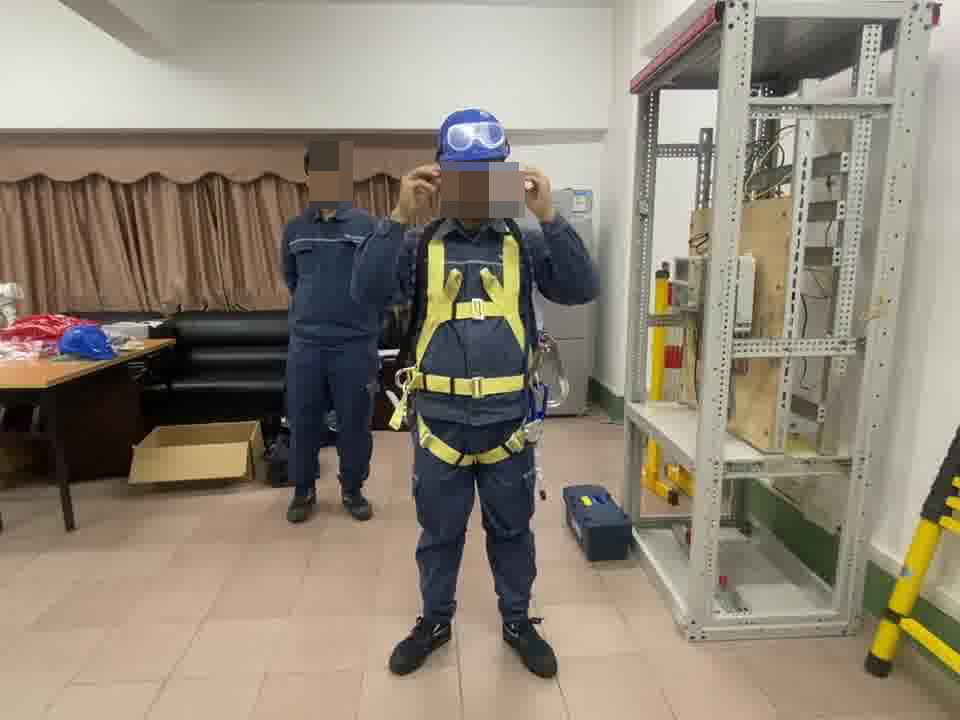downsuit: (410, 417, 543, 625), (284, 355, 375, 490)
halt: (435, 107, 513, 220)
hand: (510, 163, 553, 221), (395, 162, 438, 214)
person: (403, 104, 600, 676), (275, 140, 400, 521)
safebelt: (405, 224, 541, 467)
unhalt: (301, 143, 354, 210)
upsuit: (412, 215, 593, 402), (281, 205, 401, 343)
